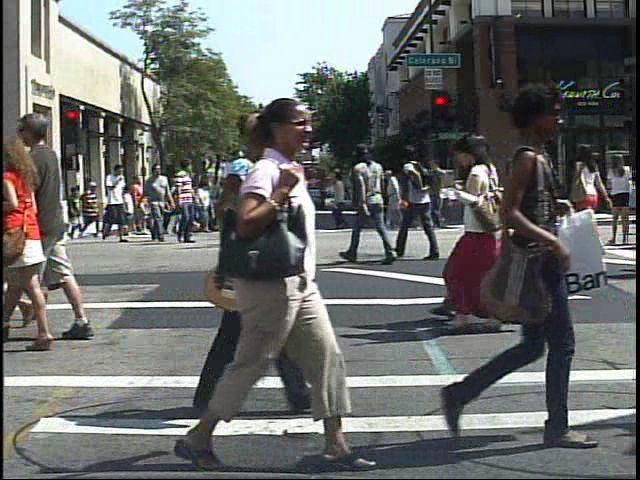person: (171, 82, 356, 478), (422, 79, 598, 462), (426, 129, 542, 345), (17, 101, 100, 345), (7, 126, 64, 351), (345, 135, 403, 273), (479, 128, 513, 343), (397, 141, 449, 265), (521, 127, 567, 262), (219, 147, 255, 250), (575, 136, 608, 238), (170, 158, 203, 245), (608, 147, 637, 245), (142, 158, 174, 245), (101, 161, 131, 245), (383, 164, 408, 236), (80, 180, 103, 244), (79, 183, 99, 228)
